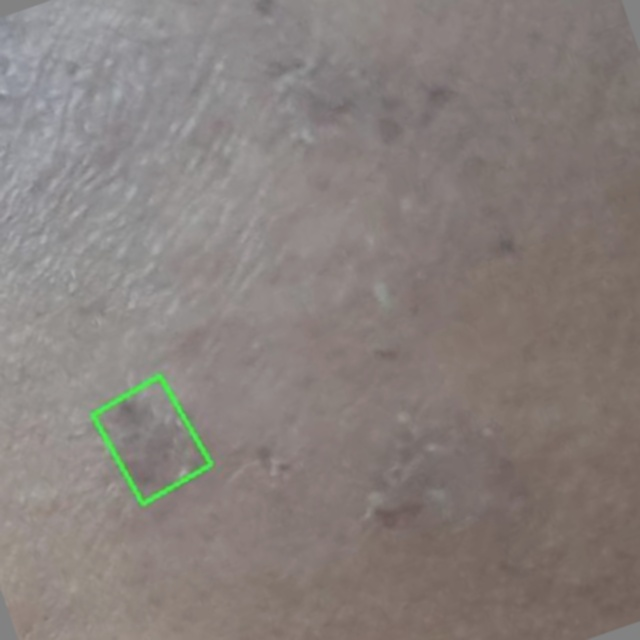Tinea Corporis: (91, 376, 210, 504)
